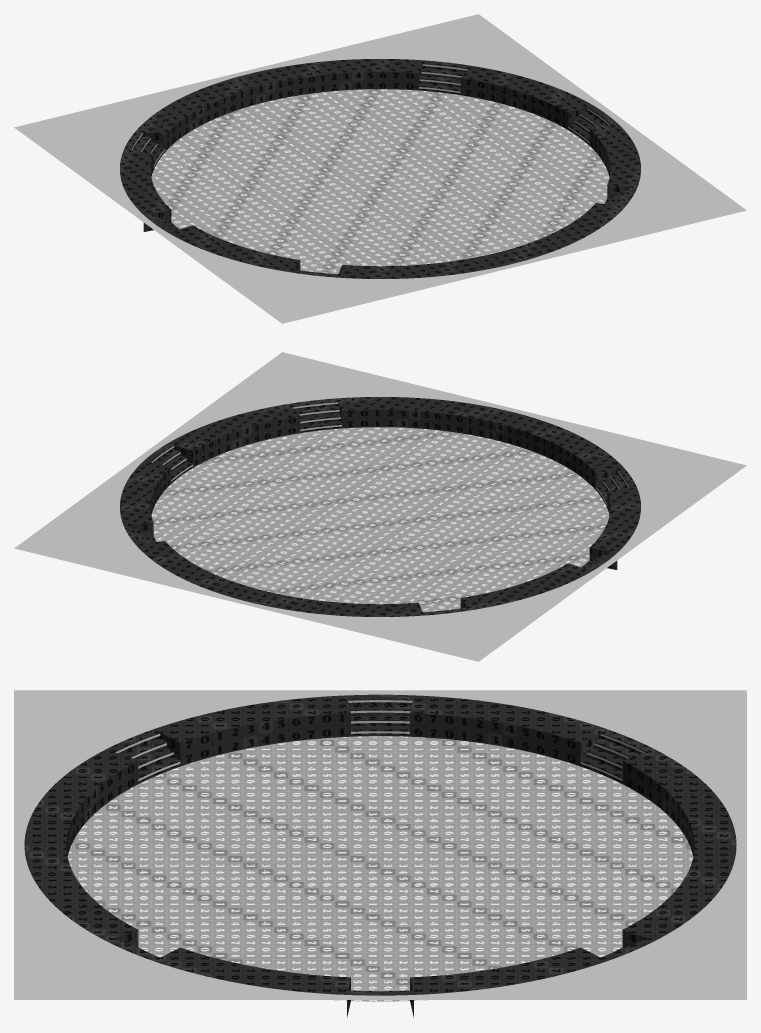
The model's file is DanceFloor01_1_21x21m.FBX.
3 renders of one model, top to bottom at view 1: azimuth 30°, elevation 25°; view 2: azimuth 150°, elevation 25°; view 3: azimuth 270°, elevation 25°, orthographic. The views are drawn at different scales.
Visible parts, largest first — view 1: DanceFloor01_1_21x21m; view 2: DanceFloor01_1_21x21m; view 3: DanceFloor01_1_21x21m.
Boxes of the visible parts, box(x1,y1,x2,y2) form: DanceFloor01_1_21x21m: box(14, 14, 746, 323); DanceFloor01_1_21x21m: box(14, 352, 746, 661); DanceFloor01_1_21x21m: box(14, 690, 746, 1017).
Bounding box in the file's own units: 2100 × 75 × 2100.
